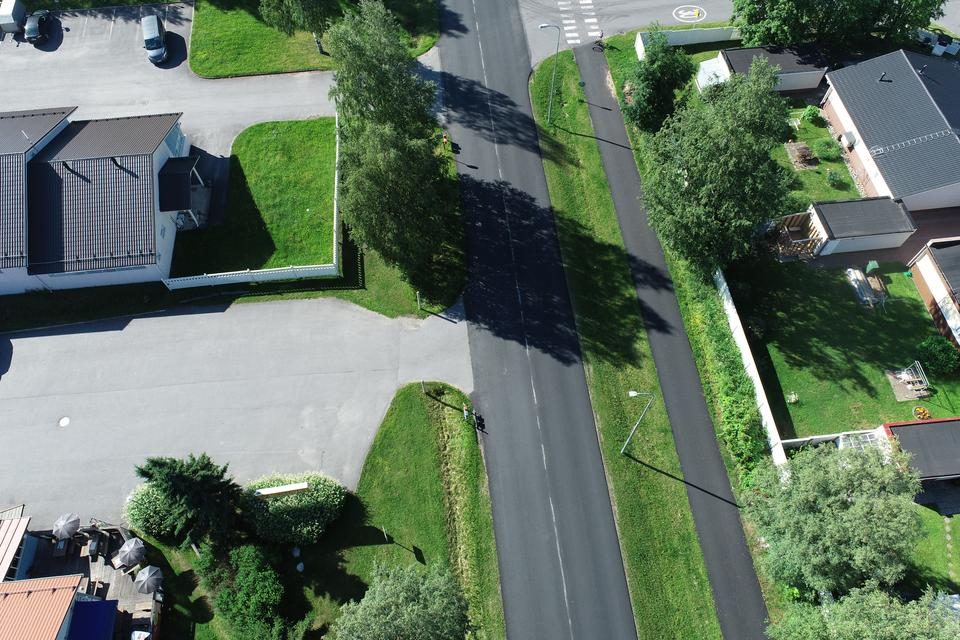intersection: (403, 0, 658, 102)
